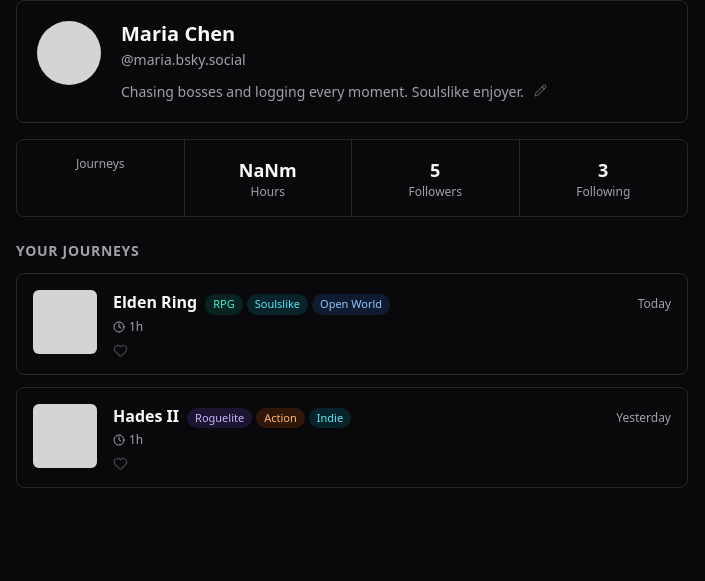
Hero — bio › saving an edited bio updates the displayed text
The image size is (705, 581).
Click the button named "Edit bio". click: (540, 90)
box: [532,82,549,99]
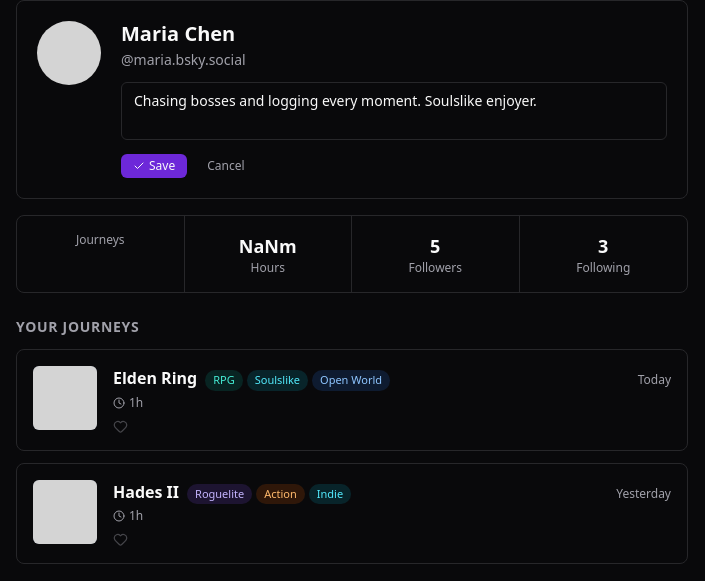
Replace the text in the text box named "Bio" with "New bio text". click: (394, 111)
box: [121,82,667,140]
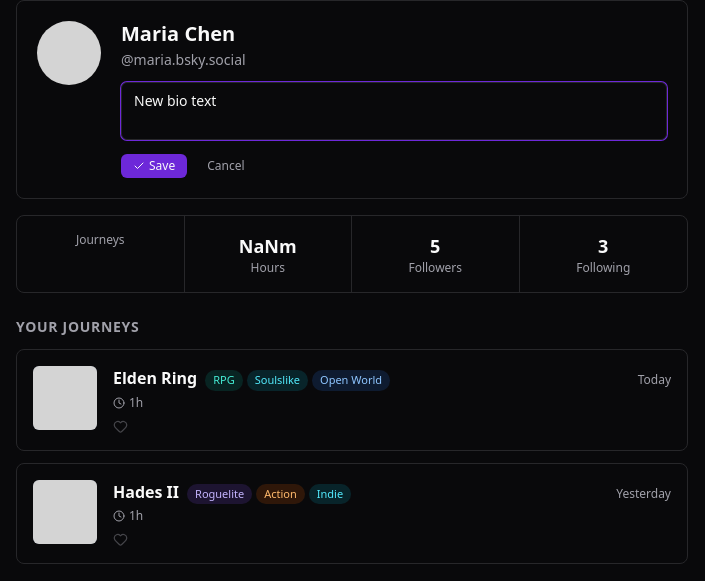
Click the button "Save". click: (154, 166)
box: [121,154,187,178]
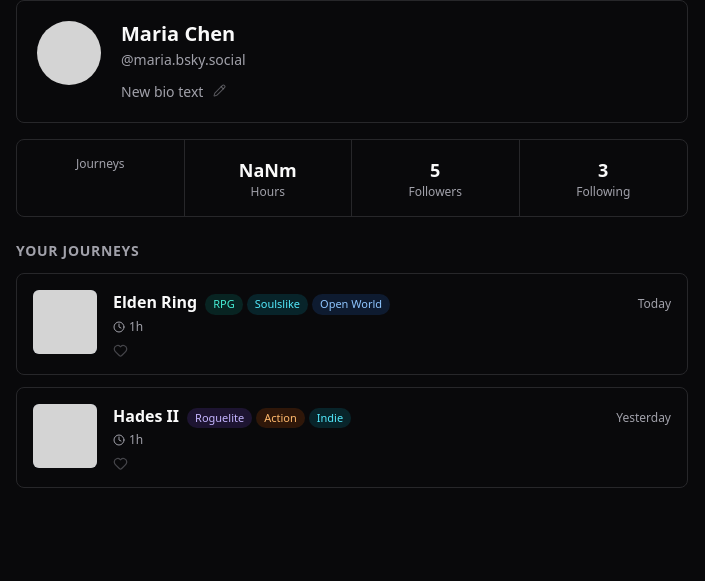
Expected: the text "New bio text" is shown, [121,82,203,102]
